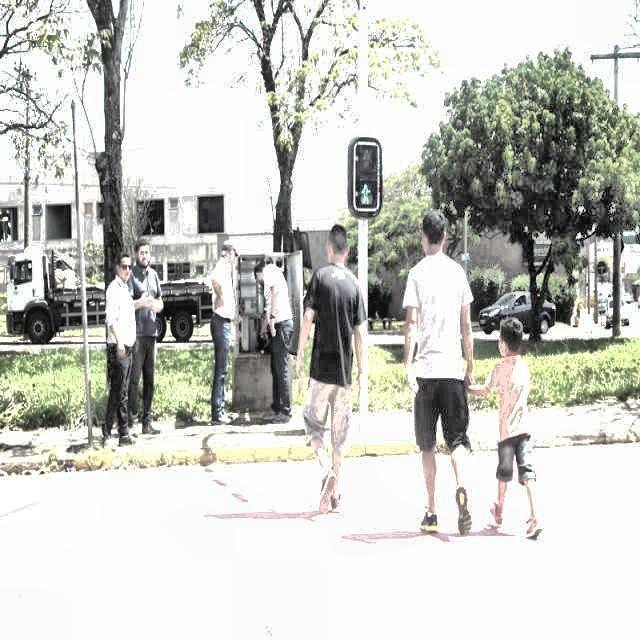faixa de pedestre: (31, 466, 636, 604)
